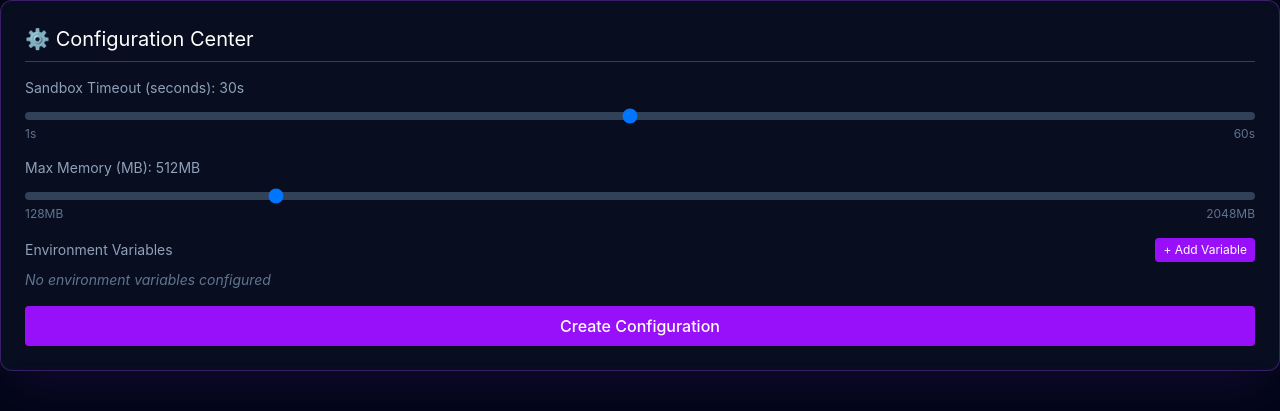
Test case: ConfigPanel › 应当能添加环境变量
Click the button "+ Add Variable": x=1205, y=250 [1155,238,1255,262]
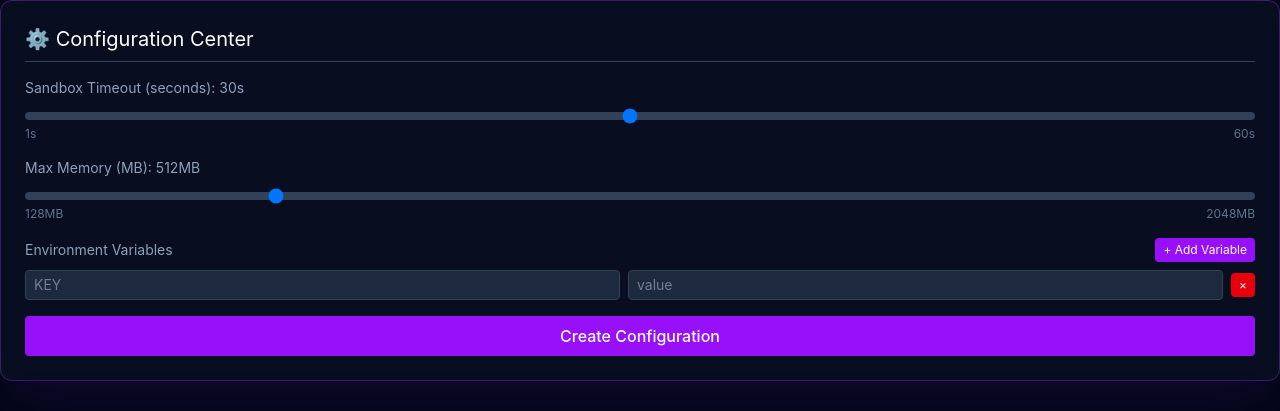
Now the field with placeholder "KEY" is shown, box [25,270,620,300]
Now the field with placeholder "value" is shown, box [628,270,1223,300]
